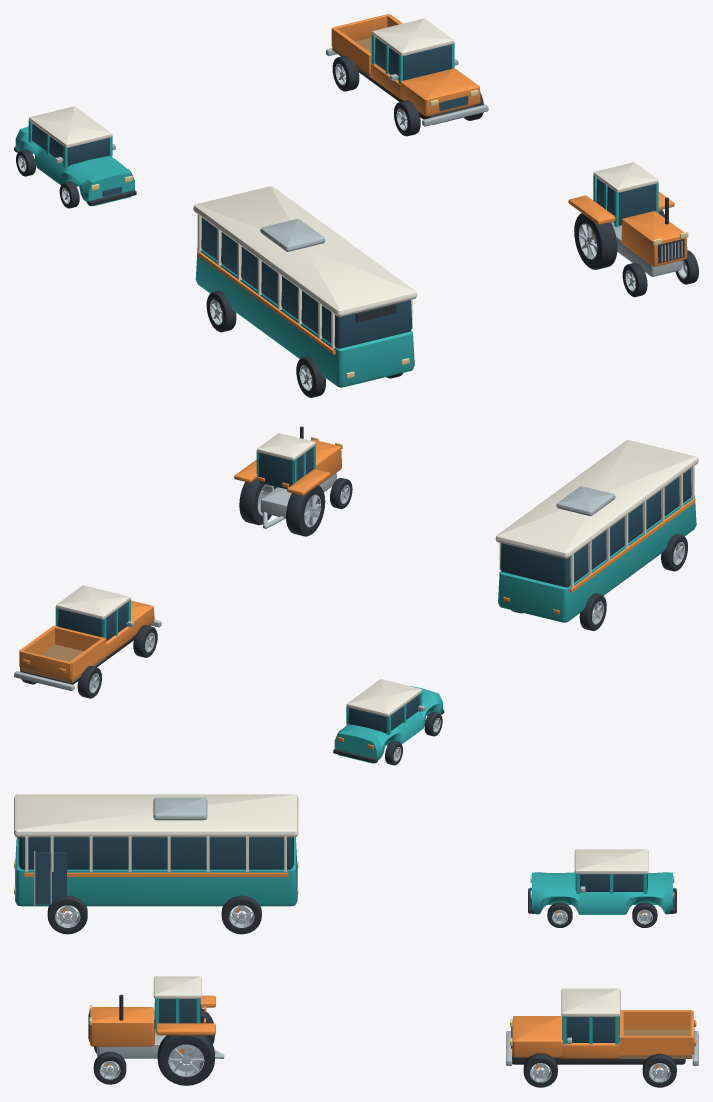
The model's file is air-land-sea-vehicles-land-showcase-fbb01fb3-starter-scene__20035.glb.
3 views of the same model, one above another, from view 1: azimuth 30°, elevation 25°; view 2: azimuth 150°, elevation 25°; view 3: azimuth 270°, elevation 25° (orthographic). The views are drawn at different scales.
Parts seen in each view (by area): view 1: 002-city-bus/2, 002-city-bus/0, 002-city-bus/1, 001-utility-pickup/1, 000-city-hatchback/0, 003-farm-tractor/1, 001-utility-pickup/2, 000-city-hatchback/2, 001-utility-pickup/3, 003-farm-tractor/2, 000-city-hatchback/1, 003-farm-tractor/wheel-rear-left (+10 smaller); view 2: 002-city-bus/2, 002-city-bus/0, 002-city-bus/1, 001-utility-pickup/1, 000-city-hatchback/0, 003-farm-tractor/1, 000-city-hatchback/2, 001-utility-pickup/3, 001-utility-pickup/2, 003-farm-tractor/2, 003-farm-tractor/wheel-rear-left, 002-city-bus/4 (+10 smaller); view 3: 002-city-bus/2, 002-city-bus/1, 002-city-bus/0, 001-utility-pickup/1, 000-city-hatchback/0, 003-farm-tractor/1, 003-farm-tractor/wheel-rear-right (×2), 000-city-hatchback/2, 001-utility-pickup/3, 002-city-bus/4, 001-utility-pickup/2, 002-city-bus/3 (+11 smaller).
Boxes of the visible parts, x1,y1,x2,y2 form: 002-city-bus/2: [193, 186, 417, 348]; 002-city-bus/0: [195, 247, 414, 387]; 002-city-bus/1: [201, 217, 412, 348]; 001-utility-pickup/1: [331, 14, 480, 116]; 000-city-hatchback/0: [15, 120, 134, 206]; 003-farm-tractor/1: [568, 191, 687, 266]; 001-utility-pickup/2: [375, 38, 468, 111]; 000-city-hatchback/2: [28, 106, 112, 147]; 001-utility-pickup/3: [371, 18, 454, 56]; 003-farm-tractor/2: [596, 178, 656, 225]; 000-city-hatchback/1: [31, 124, 121, 196]; 003-farm-tractor/wheel-rear-left: [574, 213, 617, 269]; 002-city-bus/2: [495, 440, 698, 587]; 002-city-bus/0: [498, 495, 696, 622]; 002-city-bus/1: [500, 468, 691, 587]; 001-utility-pickup/1: [19, 600, 154, 679]; 000-city-hatchback/0: [334, 686, 442, 763]; 003-farm-tractor/1: [234, 439, 341, 495]; 000-city-hatchback/2: [346, 679, 422, 716]; 001-utility-pickup/3: [56, 585, 130, 619]; 001-utility-pickup/2: [58, 603, 127, 641]; 003-farm-tractor/2: [258, 448, 312, 489]; 003-farm-tractor/wheel-rear-left: [286, 485, 325, 536]; 002-city-bus/4: [556, 486, 615, 515]; 002-city-bus/2: [14, 794, 298, 871]; 002-city-bus/1: [18, 837, 293, 903]; 002-city-bus/0: [15, 837, 297, 906]; 001-utility-pickup/1: [512, 1010, 696, 1058]; 000-city-hatchback/0: [532, 872, 672, 914]; 003-farm-tractor/1: [90, 995, 215, 1046]; 003-farm-tractor/wheel-rear-right (×2): [157, 1035, 214, 1085]; 000-city-hatchback/2: [574, 849, 648, 874]; 001-utility-pickup/3: [561, 988, 620, 1016]; 002-city-bus/4: [34, 797, 207, 905]; 001-utility-pickup/2: [511, 1017, 619, 1048]; 002-city-bus/3: [24, 861, 298, 894].
Bounding box in the file's own units: 12.52 × 3.2 × 18.42.
